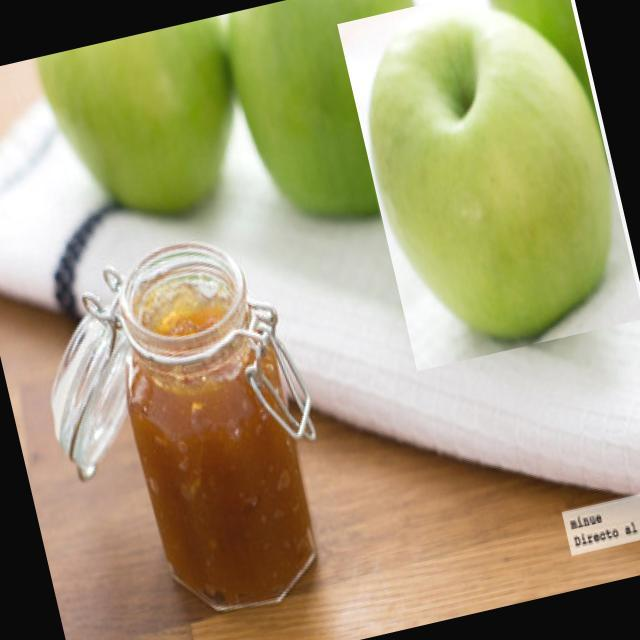Green Apple: (36, 1, 616, 344), (487, 1, 594, 97)
Red Apple: (367, 3, 615, 344), (226, 1, 415, 220), (36, 13, 235, 216)
